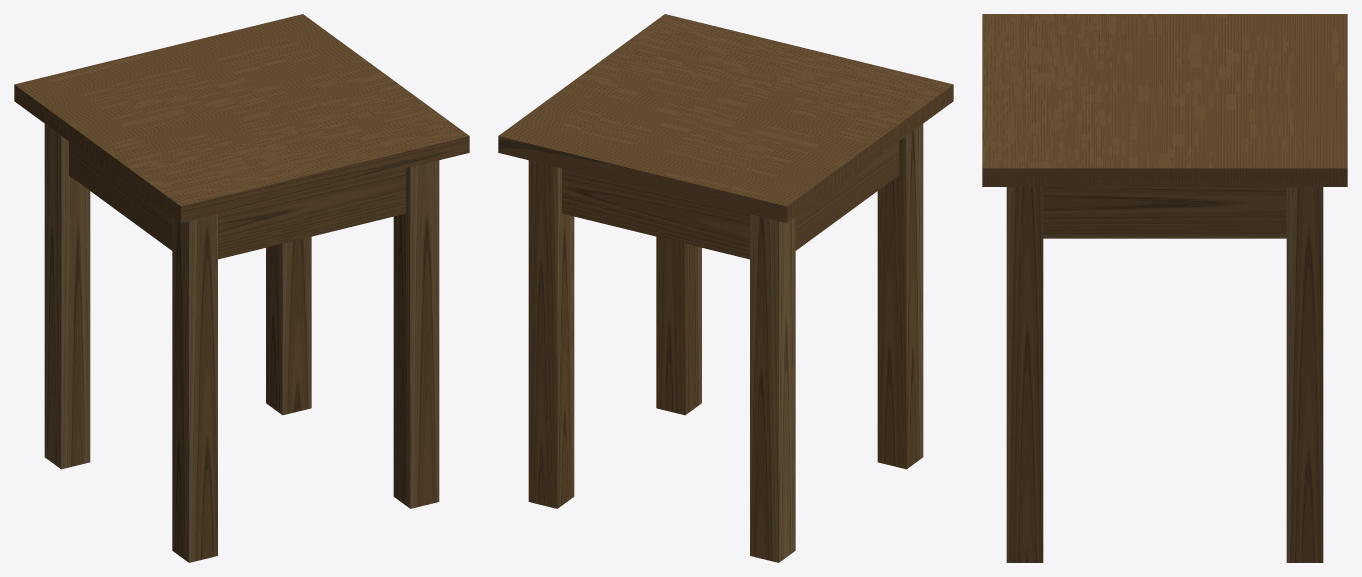
Rendered from side-table.glb.
The picture shows the model from 3 angles, left to right: view 1: azimuth 30°, elevation 25°; view 2: azimuth 150°, elevation 25°; view 3: azimuth 270°, elevation 25°; orthographic projection. The views are drawn at different scales.
Parts seen in each view (by area): view 1: top:timber:eyJsb2ciOnsic3BlY2llcyI6Im9hayIsImFnZSI6MTkwLCJsZ (×3), leg-fr:timber:eyJsb2ciOnsic3BlY2llcyI6Im9hayIsImFnZSI6MTYsIm (×2), leg-fl:timber:eyJsb2ciOnsic3BlY2llcyI6Im9hayIsImFnZSI6MTYsIm (×2), leg-bl:timber:eyJsb2ciOnsic3BlY2llcyI6Im9hayIsImFnZSI6MTYsIm (×2), apron-f:timber:eyJsb2ciOnsic3BlY2llcyI6Im9hayIsImFnZSI6MjYsI, leg-br:timber:eyJsb2ciOnsic3BlY2llcyI6Im9hayIsImFnZSI6MTYsIm (×2), apron-l:timber:eyJsb2ciOnsic3BlY2llcyI6Im9hayIsImFnZSI6MjYsI; view 2: top:timber:eyJsb2ciOnsic3BlY2llcyI6Im9hayIsImFnZSI6MTkwLCJsZ (×3), leg-br:timber:eyJsb2ciOnsic3BlY2llcyI6Im9hayIsImFnZSI6MTYsIm (×2), leg-bl:timber:eyJsb2ciOnsic3BlY2llcyI6Im9hayIsImFnZSI6MTYsIm (×2), leg-fl:timber:eyJsb2ciOnsic3BlY2llcyI6Im9hayIsImFnZSI6MTYsIm (×2), apron-b:timber:eyJsb2ciOnsic3BlY2llcyI6Im9hayIsImFnZSI6MjYsI, leg-fr:timber:eyJsb2ciOnsic3BlY2llcyI6Im9hayIsImFnZSI6MTYsIm (×2), apron-l:timber:eyJsb2ciOnsic3BlY2llcyI6Im9hayIsImFnZSI6MjYsI; view 3: top:timber:eyJsb2ciOnsic3BlY2llcyI6Im9hayIsImFnZSI6MTkwLCJsZ (×2), leg-fr:timber:eyJsb2ciOnsic3BlY2llcyI6Im9hayIsImFnZSI6MTYsIm, leg-br:timber:eyJsb2ciOnsic3BlY2llcyI6Im9hayIsImFnZSI6MTYsIm, apron-r:timber:eyJsb2ciOnsic3BlY2llcyI6Im9hayIsImFnZSI6MjYsI.
Part boxes in pixels (x1,y1,x2,y2): top:timber:eyJsb2ciOnsic3BlY2llcyI6Im9hayIsImFnZSI6MTkwLCJsZ (×3): (14,14,469,222); leg-fr:timber:eyJsb2ciOnsic3BlY2llcyI6Im9hayIsImFnZSI6MTYsIm (×2): (393,160,439,508); leg-fl:timber:eyJsb2ciOnsic3BlY2llcyI6Im9hayIsImFnZSI6MTYsIm (×2): (172,214,217,562); leg-bl:timber:eyJsb2ciOnsic3BlY2llcyI6Im9hayIsImFnZSI6MTYsIm (×2): (44,124,90,469); apron-f:timber:eyJsb2ciOnsic3BlY2llcyI6Im9hayIsImFnZSI6MjYsI: (218,168,405,259); leg-br:timber:eyJsb2ciOnsic3BlY2llcyI6Im9hayIsImFnZSI6MTYsIm (×2): (266,236,311,415); apron-l:timber:eyJsb2ciOnsic3BlY2llcyI6Im9hayIsImFnZSI6MjYsI: (69,141,172,250); top:timber:eyJsb2ciOnsic3BlY2llcyI6Im9hayIsImFnZSI6MTkwLCJsZ (×3): (498,14,953,222); leg-br:timber:eyJsb2ciOnsic3BlY2llcyI6Im9hayIsImFnZSI6MTYsIm (×2): (528,160,574,508); leg-bl:timber:eyJsb2ciOnsic3BlY2llcyI6Im9hayIsImFnZSI6MTYsIm (×2): (750,214,795,562); leg-fl:timber:eyJsb2ciOnsic3BlY2llcyI6Im9hayIsImFnZSI6MTYsIm (×2): (877,124,923,469); apron-b:timber:eyJsb2ciOnsic3BlY2llcyI6Im9hayIsImFnZSI6MjYsI: (562,168,749,259); leg-fr:timber:eyJsb2ciOnsic3BlY2llcyI6Im9hayIsImFnZSI6MTYsIm (×2): (656,236,701,415); apron-l:timber:eyJsb2ciOnsic3BlY2llcyI6Im9hayIsImFnZSI6MjYsI: (795,141,898,250); top:timber:eyJsb2ciOnsic3BlY2llcyI6Im9hayIsImFnZSI6MTkwLCJsZ (×2): (982,14,1347,186); leg-fr:timber:eyJsb2ciOnsic3BlY2llcyI6Im9hayIsImFnZSI6MTYsIm: (1006,187,1043,562); leg-br:timber:eyJsb2ciOnsic3BlY2llcyI6Im9hayIsImFnZSI6MTYsIm: (1286,187,1323,562); apron-r:timber:eyJsb2ciOnsic3BlY2llcyI6Im9hayIsImFnZSI6MjYsI: (1043,187,1286,238).
Size of the model in its own units: 0.45 by 0.55 by 0.45.
Materials: 94 (54 with a texture image).
